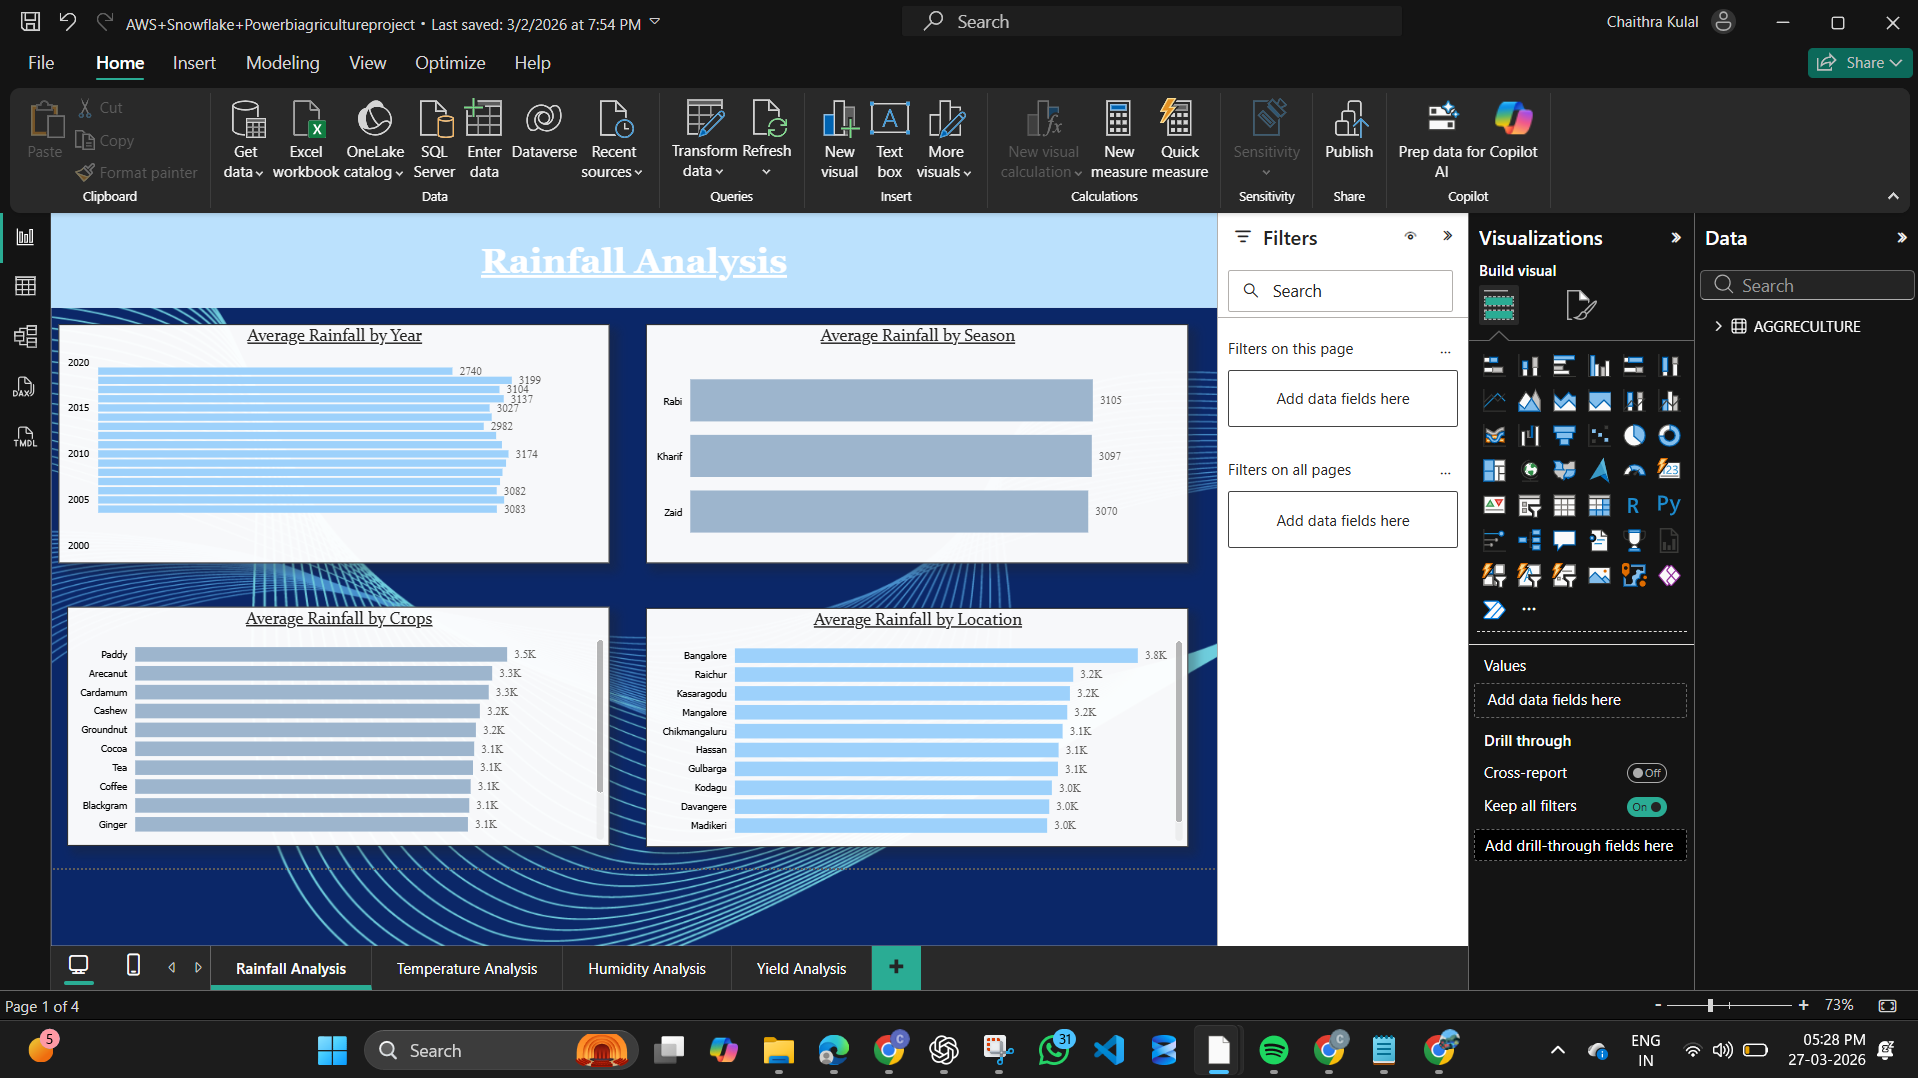

This screenshot's page, from the dashboard's own definition file:
{"tool":"powerbi","page":{"name":"Rainfall Analysis","canvas":[1280,720],"ordinal":0},"visuals":[{"type":"shape","box":[0,0,1280.3,104.3],"z":0},{"type":"barChart","title":"Average Rainfall by Year","fields":{"Y":["Avg(AGGRECULTURE.RAINFALL)"],"Category":["AGGRECULTURE.YEAR"]},"box":[8.2,122.1,605.1,262.1],"z":1000},{"type":"barChart","title":"Average Rainfall by Season","fields":{"Y":["Avg(AGGRECULTURE.RAINFALL)"],"Category":["AGGRECULTURE.SEASON"]},"box":[653.2,122.1,595.5,262.1],"z":2000},{"type":"barChart","title":"Average Rainfall by Crops","fields":{"Y":["Avg(AGGRECULTURE.RAINFALL)"],"Category":["AGGRECULTURE.CROPS"]},"box":[17.8,432.2,595.5,262.1],"z":3000},{"type":"barChart","title":"Average Rainfall by Location","fields":{"Y":["Avg(AGGRECULTURE.RAINFALL)"],"Category":["AGGRECULTURE.LOCATION"]},"box":[653.2,433.6,595.5,262.1],"z":4000}]}

Visuals, with their boxes on the page's 1280x720 design canvas (x1, y1, x2, y2). These are canvas units, not pixel positions in the 1918x1078 screenshot, which may show the page scaled, cropped or inside an application window:
shape: [left=0, top=0, right=1280, bottom=104]
"Average Rainfall by Year" barChart: [left=8, top=122, right=613, bottom=384]
"Average Rainfall by Season" barChart: [left=653, top=122, right=1249, bottom=384]
"Average Rainfall by Crops" barChart: [left=18, top=432, right=613, bottom=694]
"Average Rainfall by Location" barChart: [left=653, top=434, right=1249, bottom=696]
